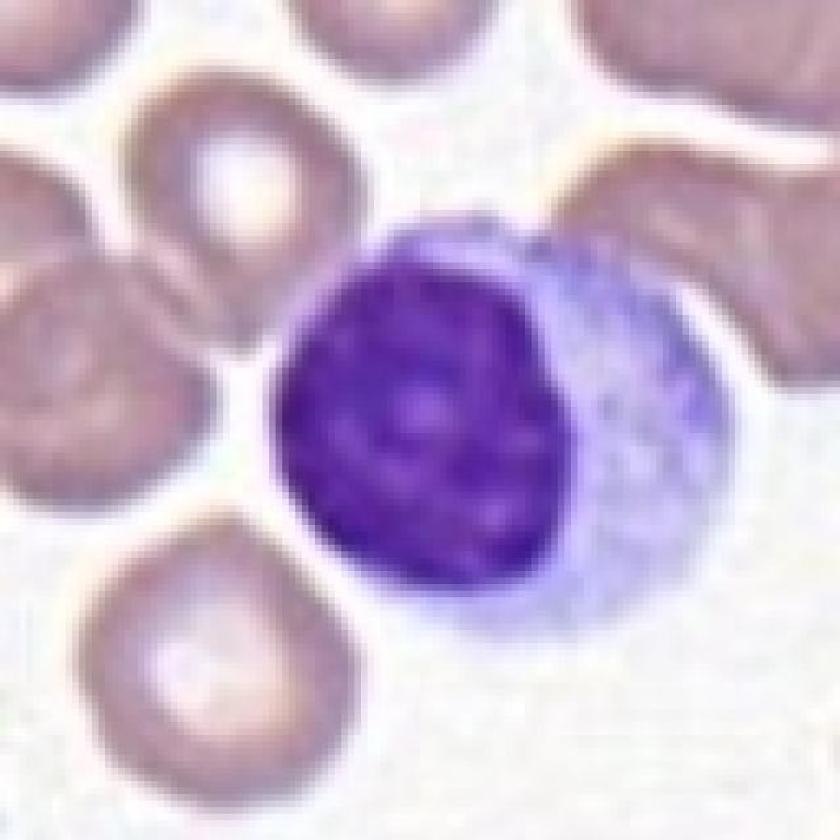lymphocyte: (261, 204, 746, 648)
